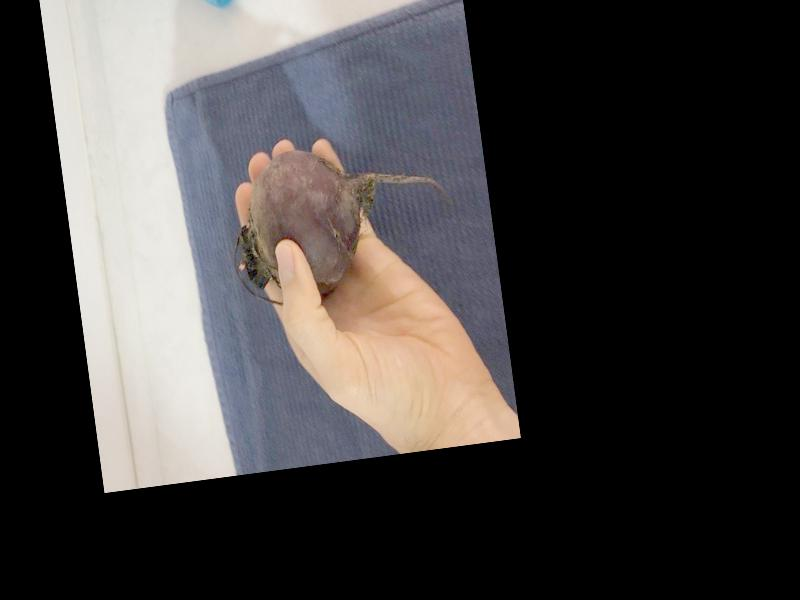Beet: (222, 132, 455, 312)
